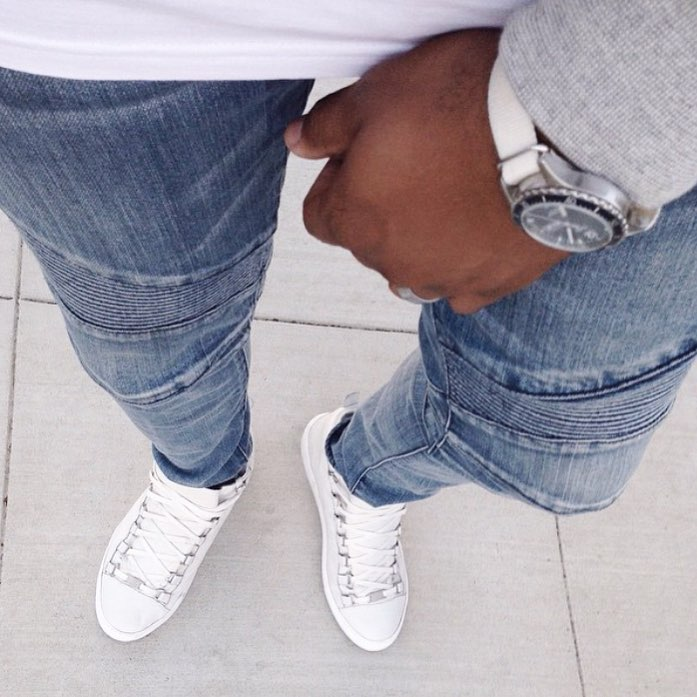sneaker: (71, 415, 282, 649), (289, 386, 427, 667)
